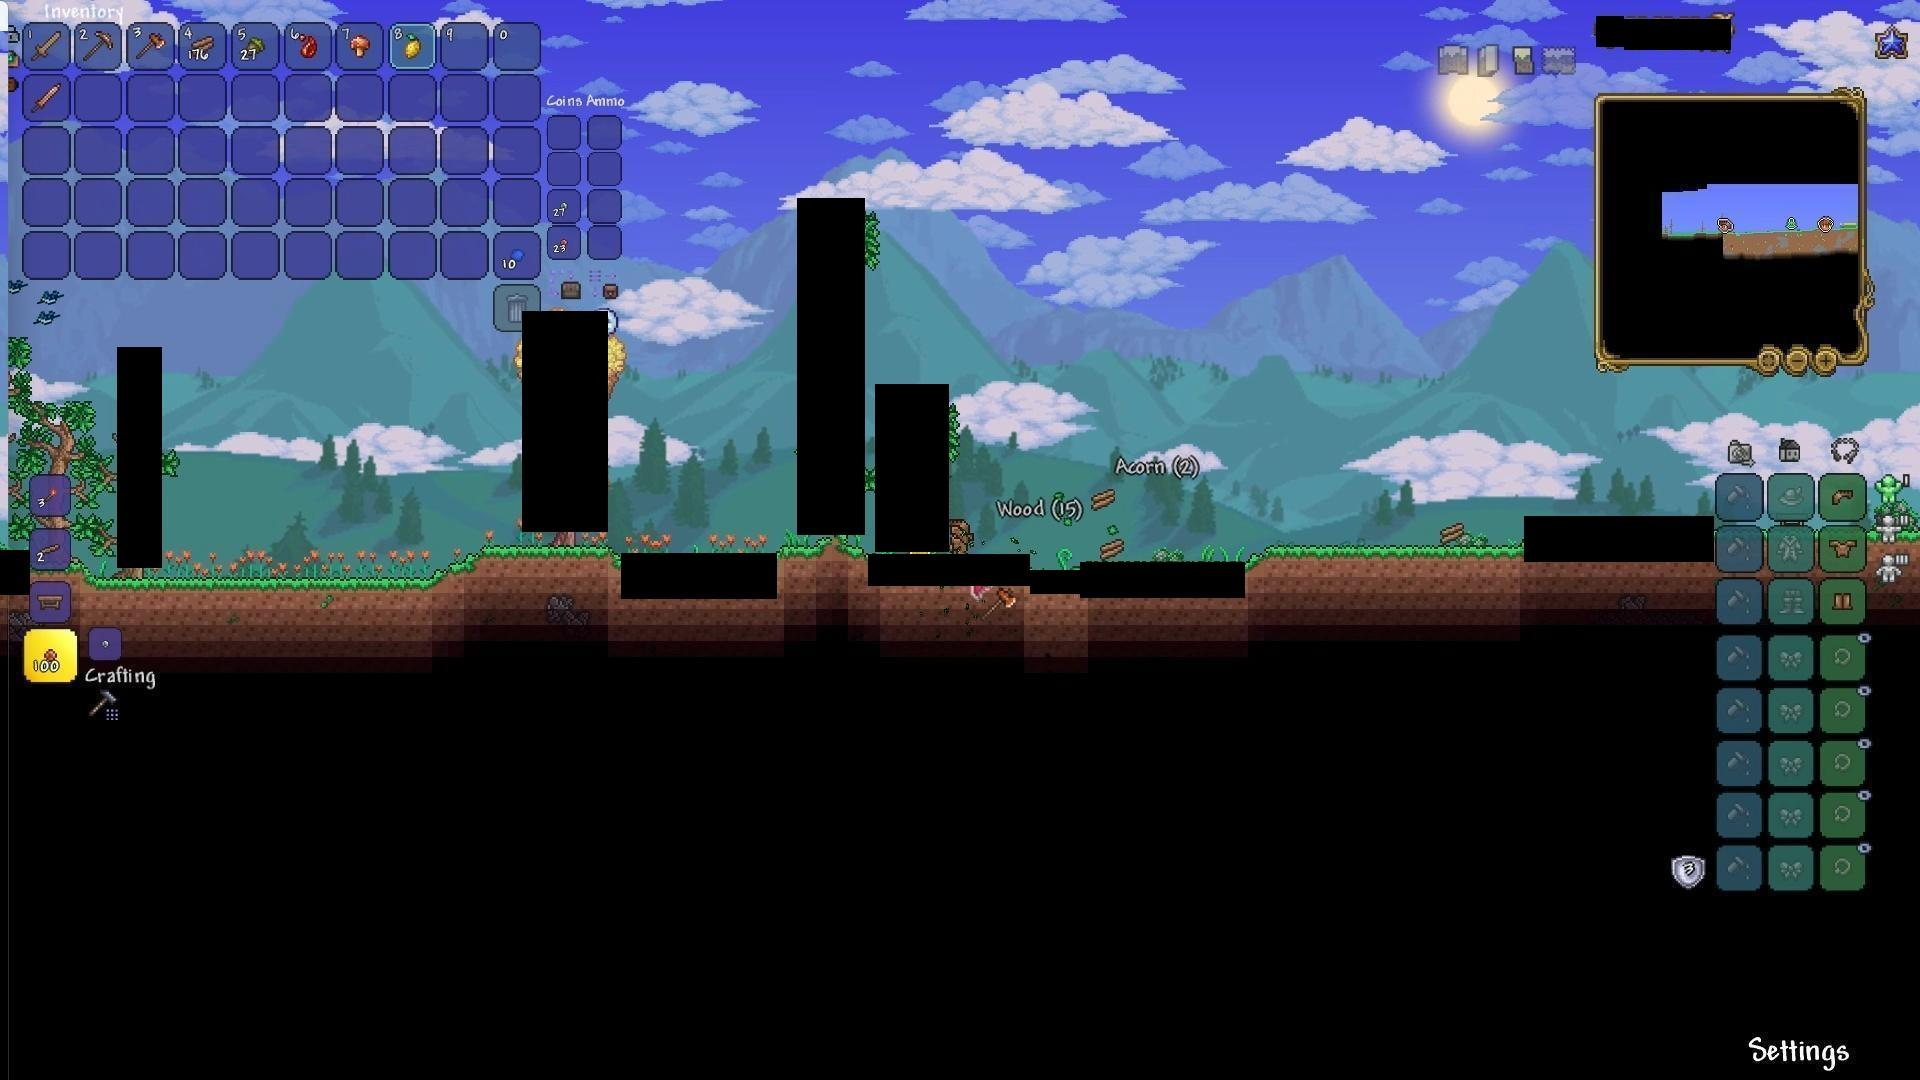breastplate: (1830, 538, 1859, 559)
dirt: (88, 572, 458, 630), (1247, 546, 1524, 595), (464, 534, 618, 595), (778, 539, 866, 574)
helmet: (1829, 483, 1859, 510)
legs: (1832, 588, 1855, 616)
wood: (189, 34, 218, 61), (1087, 487, 1114, 513), (1437, 524, 1466, 549), (1096, 538, 1124, 563)
workbench: (34, 588, 67, 613)
